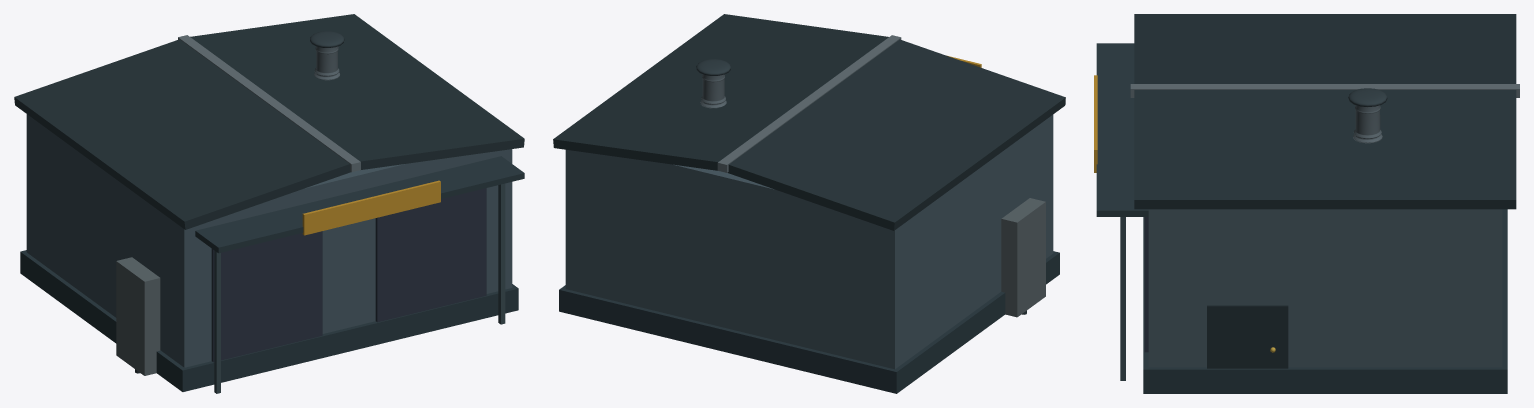
Rendered from yard-maintenance-body-authored-vertex-colour-tripo-finish.glb.
3 renders of one model, left to right at view 1: azimuth 30°, elevation 25°; view 2: azimuth 150°, elevation 25°; view 3: azimuth 270°, elevation 25°, orthographic. The views are drawn at different scales.
Parts seen in each view (by area): view 1: Authored shadows true:true, Authored shadows false:false, Authored shadows true:false; view 2: Authored shadows true:true, Authored shadows true:false; view 3: Authored shadows true:true, Authored shadows true:false, Authored shadows false:false.
Boxes of the visible parts, x1,y1,x2,y2 form: Authored shadows true:true: [14, 14, 524, 391]; Authored shadows false:false: [135, 180, 486, 373]; Authored shadows true:false: [116, 31, 524, 393]; Authored shadows true:true: [553, 14, 1065, 393]; Authored shadows true:false: [696, 35, 1065, 317]; Authored shadows true:true: [1134, 14, 1516, 393]; Authored shadows true:false: [1096, 43, 1519, 380]; Authored shadows false:false: [1094, 75, 1288, 368].
Size of the model in its own units: 1 by 0.6313 by 0.9396.
